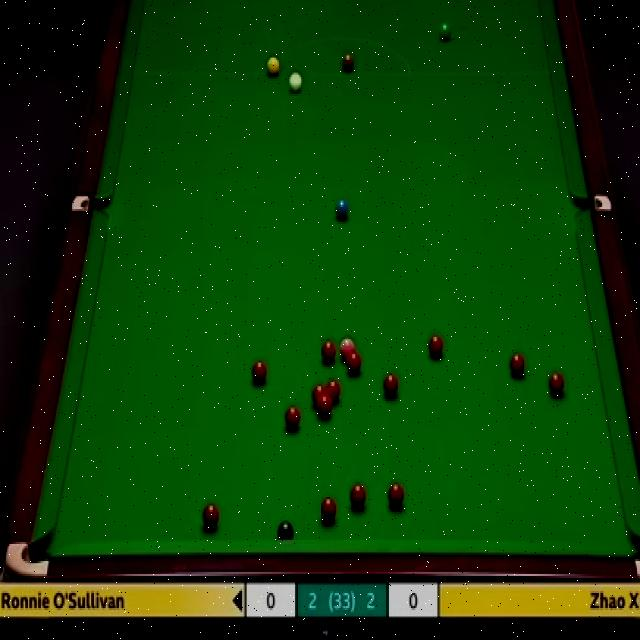black-ball: (279, 520, 297, 540)
blue-ball: (334, 200, 350, 218)
brown-ball: (342, 53, 355, 77)
green-ball: (440, 22, 450, 37)
pink-ball: (340, 337, 355, 358)
red-ball: (201, 502, 219, 529), (350, 480, 366, 510), (325, 379, 342, 406), (320, 497, 338, 522), (287, 404, 304, 430), (508, 352, 525, 377), (548, 372, 566, 395), (389, 483, 405, 507), (251, 362, 268, 384), (426, 335, 443, 357), (318, 395, 332, 418), (346, 351, 361, 372), (382, 375, 398, 394), (320, 340, 334, 360), (312, 385, 326, 405)
white-ball: (289, 71, 303, 90)
yellow-ball: (267, 56, 280, 77)
